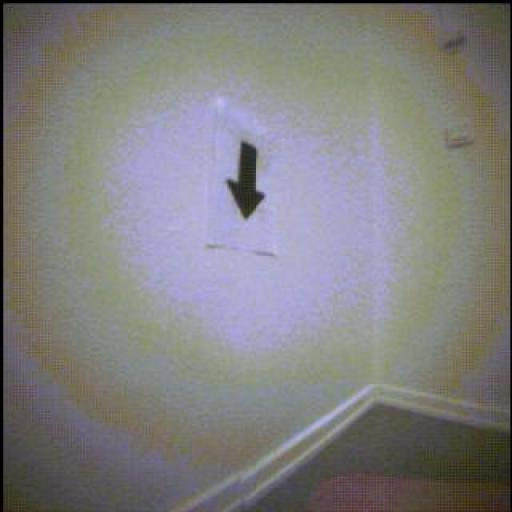Arrow: (228, 144, 265, 221)
